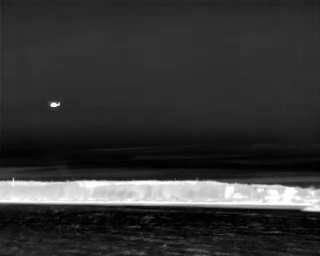HELICOPTER: (46, 97, 64, 114)
